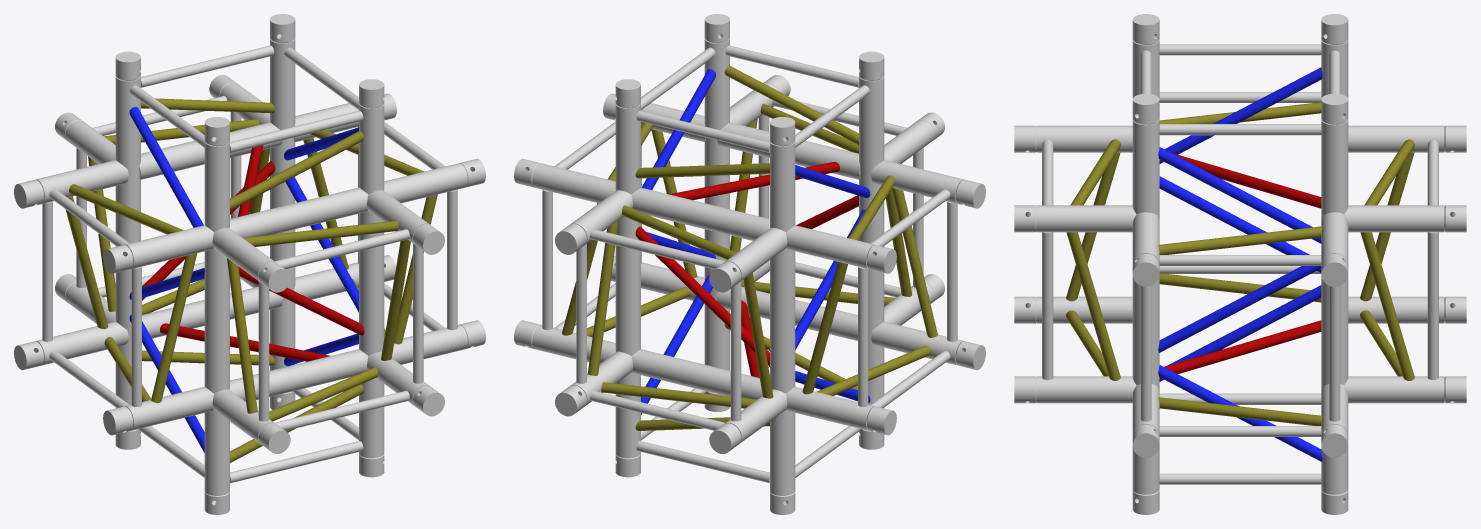
The picture shows the model from 3 angles, left to right: view 1: azimuth 30°, elevation 25°; view 2: azimuth 150°, elevation 25°; view 3: azimuth 270°, elevation 25°; orthographic projection. The views are drawn at different scales.
Visible parts, largest first — view 1: 260028530; view 2: 260028530; view 3: 260028530.
Part boxes in pixels (bbox=[...]): 260028530: bbox=[14, 14, 485, 514]; 260028530: bbox=[514, 14, 985, 514]; 260028530: bbox=[1014, 14, 1466, 514].
Size of the model in its own units: 0.813 by 0.813 by 0.813.
